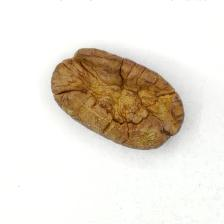NG: (70, 56, 166, 133)
